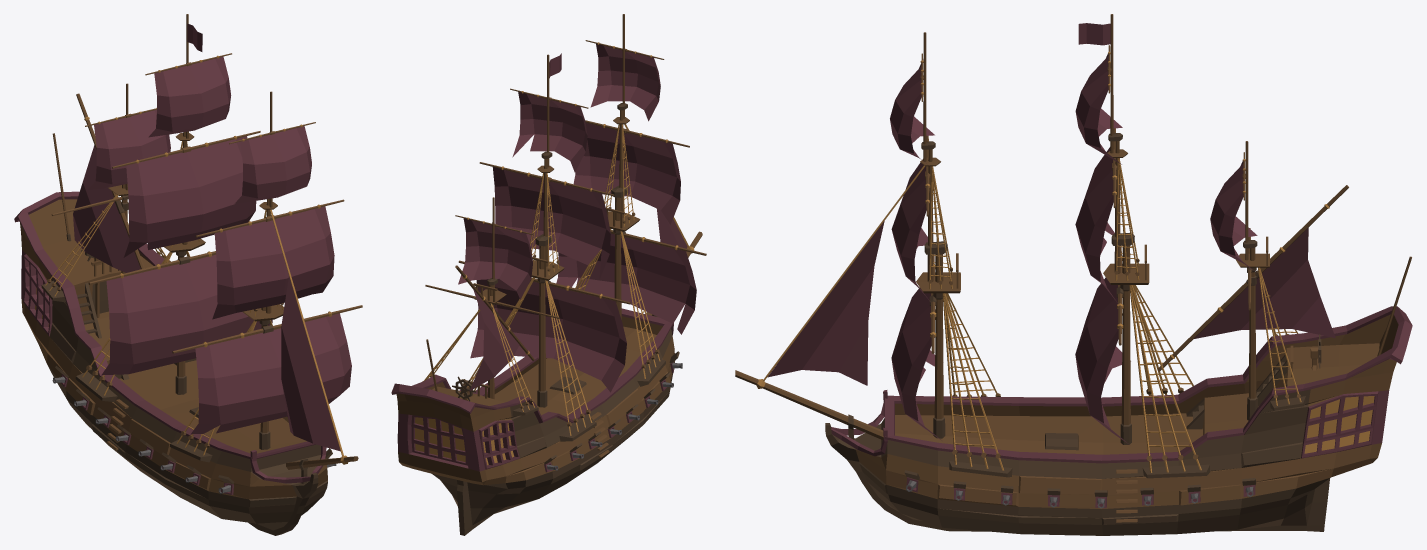
File: ship-pirate-flags.fbx
3 renders of one model, left to right at view 1: azimuth 30°, elevation 25°; view 2: azimuth 150°, elevation 25°; view 3: azimuth 270°, elevation 25°, orthographic. The views are drawn at different scales.
Visible parts, largest first — view 1: ship-pirate-flags; view 2: ship-pirate-flags; view 3: ship-pirate-flags.
Boxes of the visible parts, bbox=[...] form: ship-pirate-flags: bbox=[14, 14, 362, 535]; ship-pirate-flags: bbox=[391, 14, 706, 535]; ship-pirate-flags: bbox=[735, 14, 1412, 535].
Bounding box in the file's own units: 12.22 × 28.51 × 33.91.
